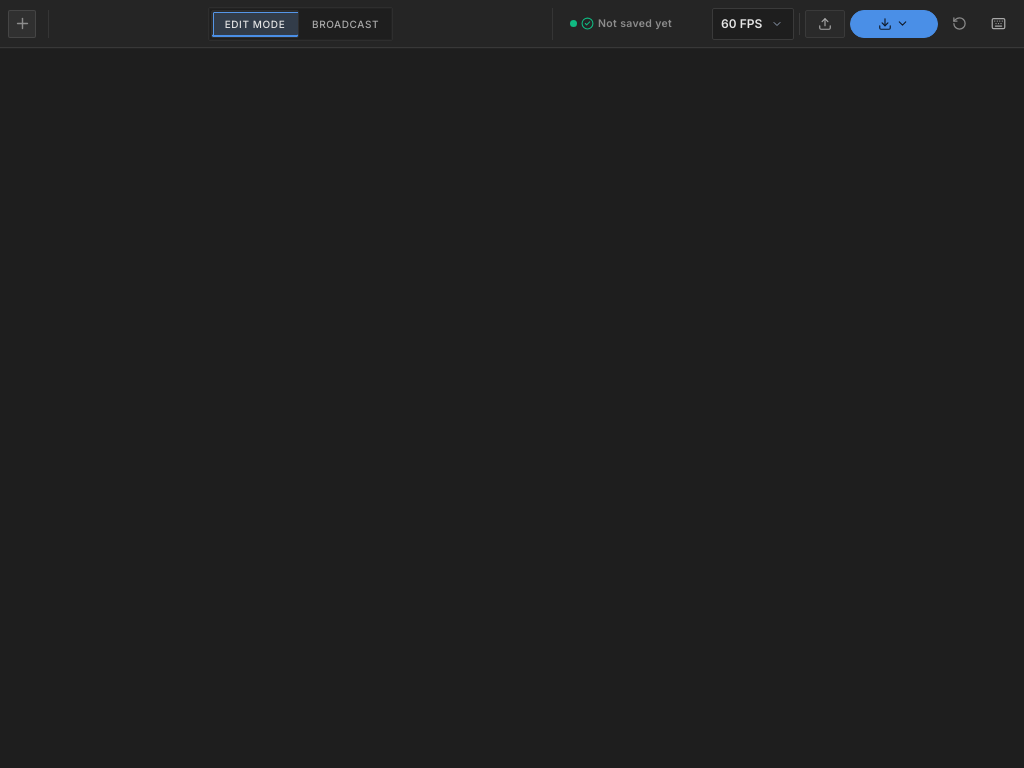
SAFE-03-A — reset confirmation › asks for confirmation instead of resetting when the document has content
This screenshot has width=1024, height=768.
Click the button titled "Reset Canvas Project" at (960, 24), box 943,10 -> 977,38
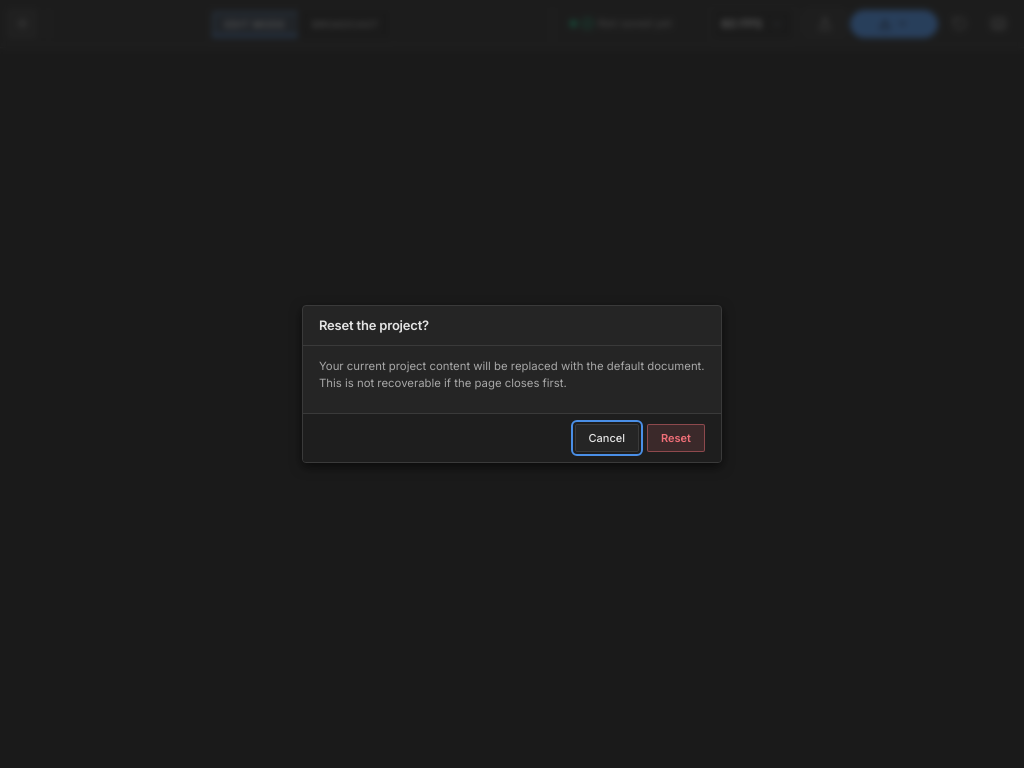
expect the dialog is shown: met, box 302,306 -> 722,463
